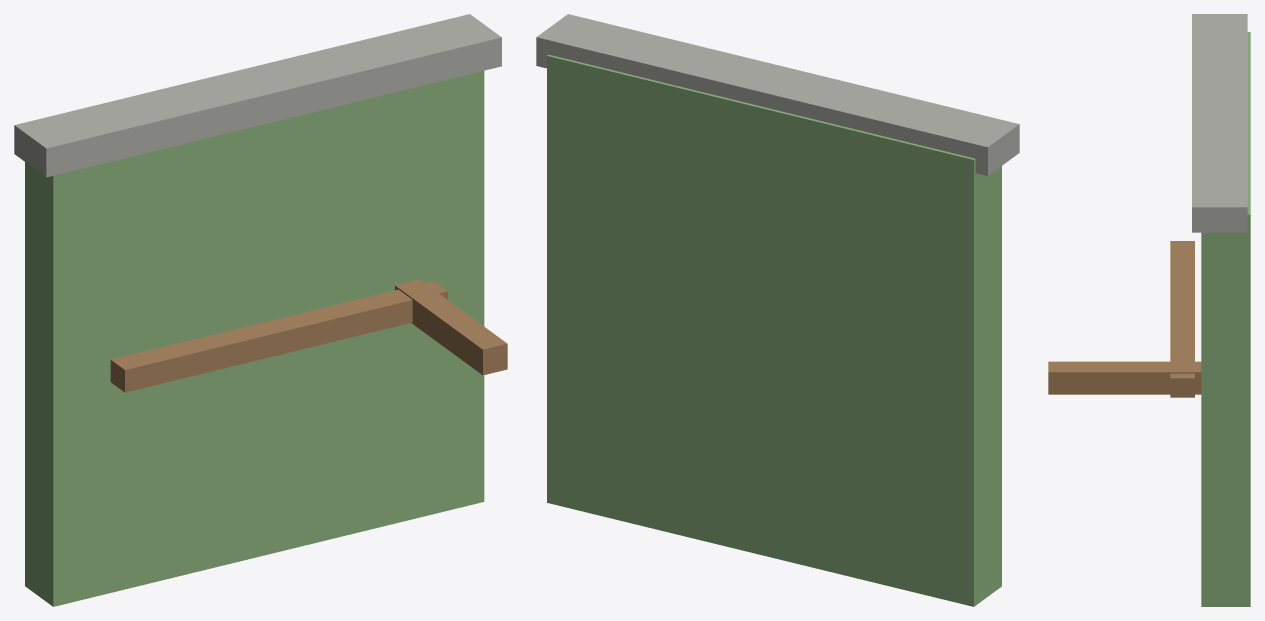
File: 20_HangRaoTre.glb
3 renders of one model, left to right at view 1: azimuth 30°, elevation 25°; view 2: azimuth 150°, elevation 25°; view 3: azimuth 270°, elevation 25°, orthographic. The views are drawn at different scales.
Parts seen in each view (by area): view 1: base, edge, rail, post; view 2: base, edge; view 3: base, edge, post, rail.
Part boxes in pixels (x1,y1,x2,y2): base: (25,71,484,606); edge: (14,14,501,177); rail: (110,281,447,392); post: (395,279,507,375); base: (547,54,1001,606); edge: (536,14,1019,175); base: (1201,32,1250,606); edge: (1192,14,1247,232); post: (1048,361,1201,394); rail: (1170,241,1194,397).
Size of the model in its own units: 1.48 by 1.44 by 0.655.
